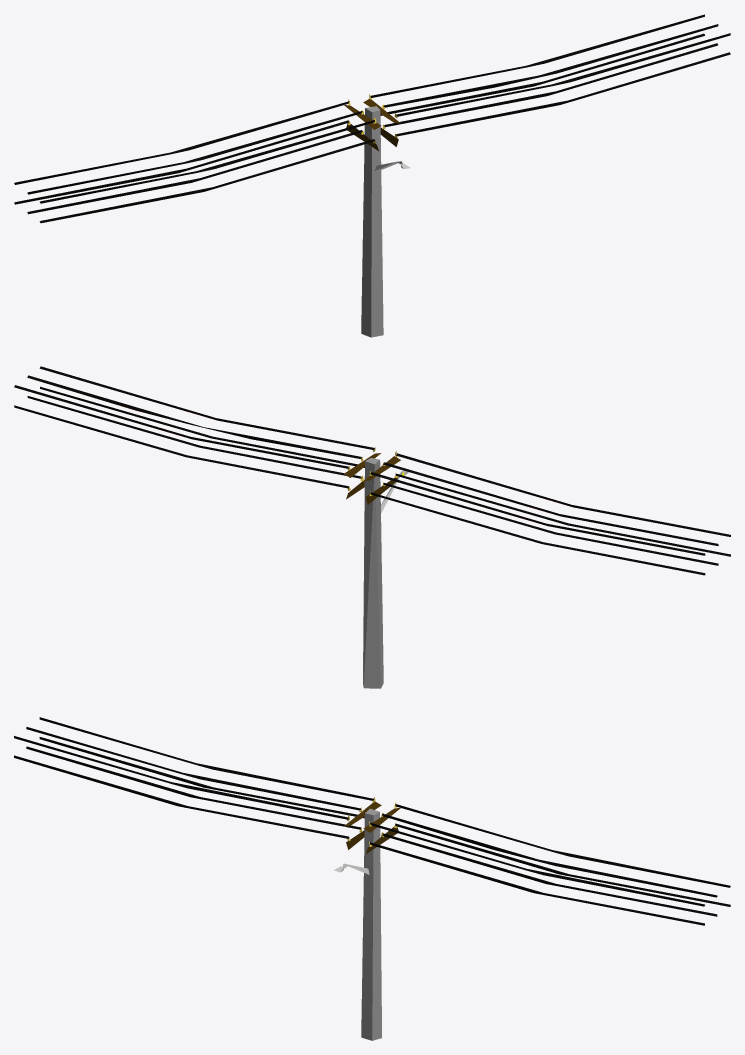
The model's file is PosteDeLuzFiosAmbosLadosLOD1.fbx.
The picture shows the model from 3 angles, top to bottom: view 1: azimuth 30°, elevation 25°; view 2: azimuth 150°, elevation 25°; view 3: azimuth 330°, elevation 25°; orthographic projection.
Visible parts, largest first — view 1: PosteDeLuzFiosAmbosLadosLOD1; view 2: PosteDeLuzFiosAmbosLadosLOD1; view 3: PosteDeLuzFiosAmbosLadosLOD1.
Part boxes in pixels (<box>): PosteDeLuzFiosAmbosLadosLOD1: <box>14,14,730,337</box>; PosteDeLuzFiosAmbosLadosLOD1: <box>14,366,730,688</box>; PosteDeLuzFiosAmbosLadosLOD1: <box>14,717,730,1040</box>.
Bounding box in the file's own units: 2340 × 738 × 299.
